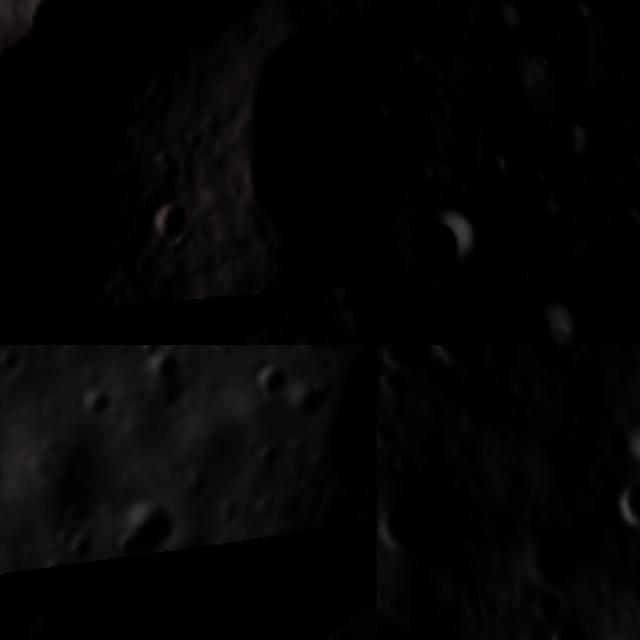crater: (511, 509, 607, 606), (377, 474, 452, 574), (102, 486, 188, 570), (407, 194, 484, 284), (588, 455, 640, 556), (136, 182, 200, 253), (413, 345, 514, 386), (18, 590, 94, 640), (498, 358, 552, 414), (377, 350, 425, 412), (535, 600, 608, 640), (513, 298, 575, 345), (201, 296, 258, 345), (237, 355, 294, 404), (383, 437, 432, 486), (135, 345, 184, 391), (477, 0, 525, 43), (556, 114, 595, 166), (248, 554, 296, 596), (290, 379, 338, 420), (615, 413, 640, 484), (73, 380, 114, 423), (58, 488, 102, 525), (245, 436, 286, 474), (541, 345, 600, 370), (298, 446, 335, 482), (611, 205, 640, 248), (315, 619, 372, 640), (531, 193, 563, 230), (484, 147, 508, 193), (0, 345, 24, 383), (50, 524, 80, 552), (41, 555, 67, 582)
